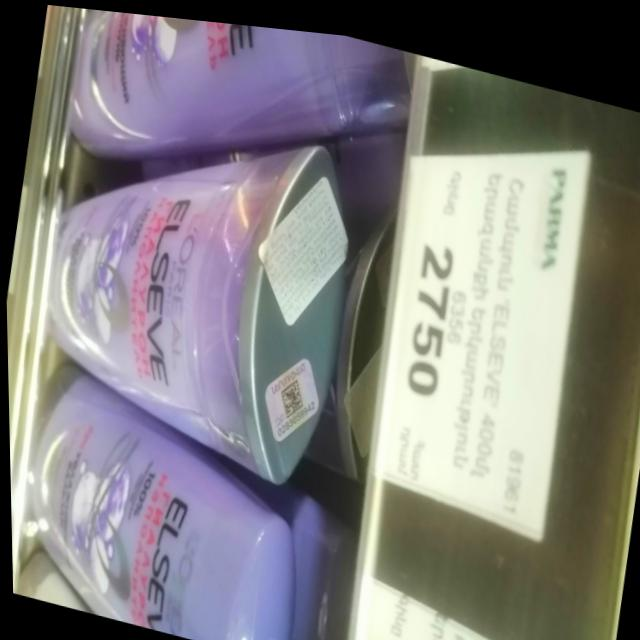datamatrix: (275, 371, 306, 418)
